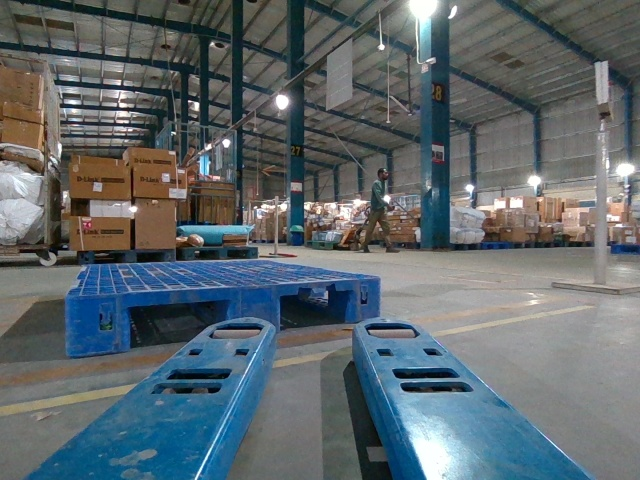pallet: (66, 275, 380, 356)
